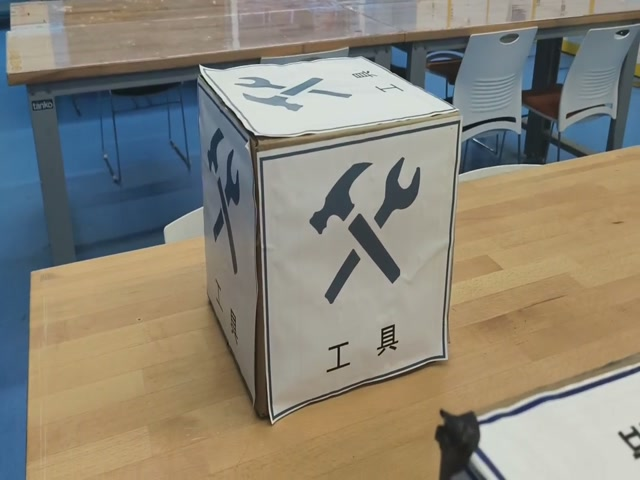Cube_tool: (200, 58, 459, 144)
